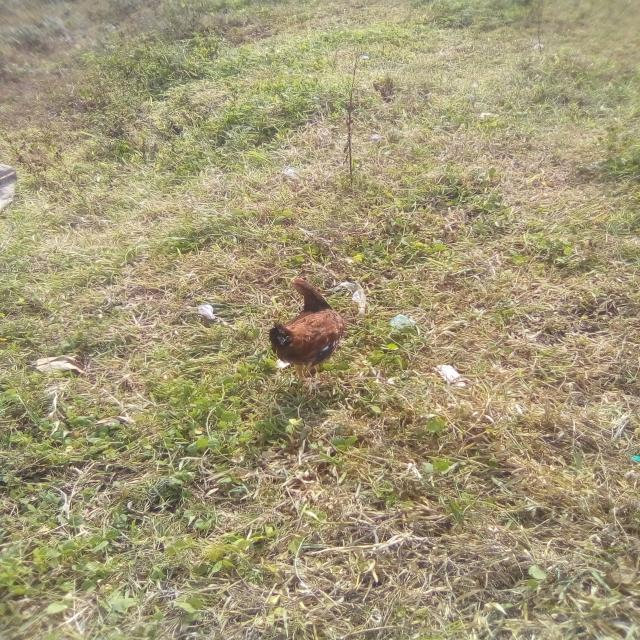hen: (230, 242, 392, 409)
